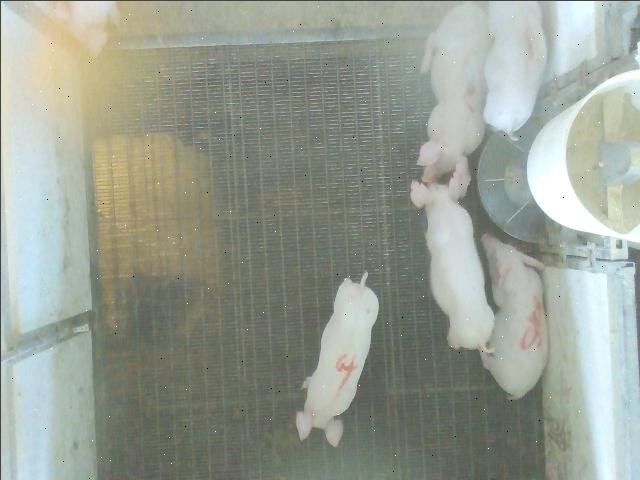pig-1: (482, 1, 545, 139)
pig-3: (416, 2, 489, 181)
pig-4: (295, 272, 378, 445)
pig-5: (479, 234, 546, 398)
